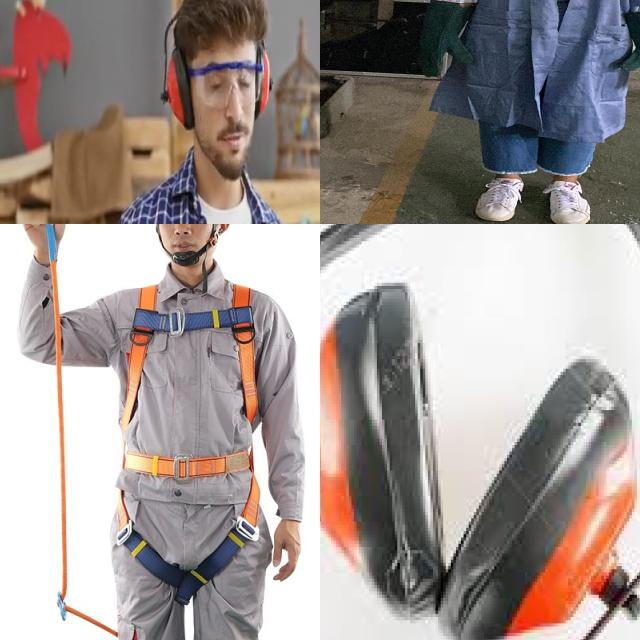Ear-protection: (435, 349, 636, 640), (320, 276, 446, 620), (160, 35, 193, 136), (254, 40, 273, 118)
Harness: (108, 278, 264, 602)
glasses: (186, 60, 257, 108)
hand_glove: (399, 28, 487, 80), (608, 31, 640, 93)
person: (81, 0, 320, 224), (409, 0, 640, 224)
shoes: (464, 172, 533, 224), (532, 174, 601, 224)
